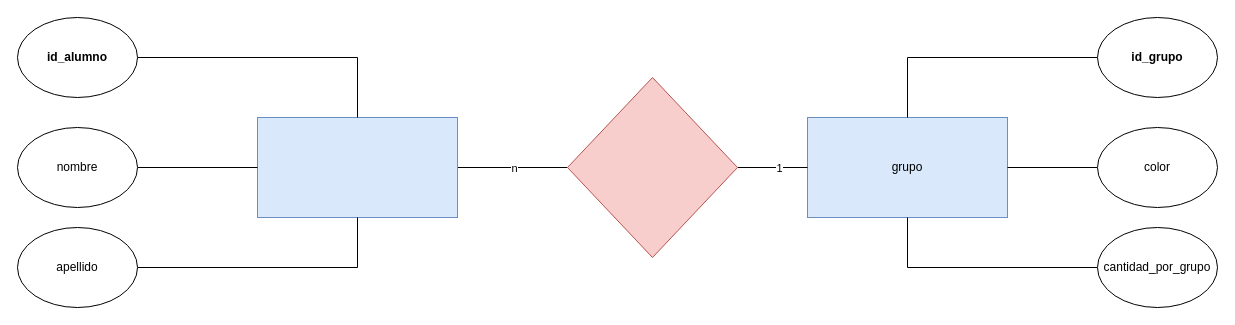
The diagram is 1235 pixels wide and 325 high, and some of its shapes have lost their labels. The shapes that lost their labels are listed below. From the top down, each one's centre as x and y in pixels, then its label:
At point (357, 167): "alumno".
At point (652, 167): "tiene".
